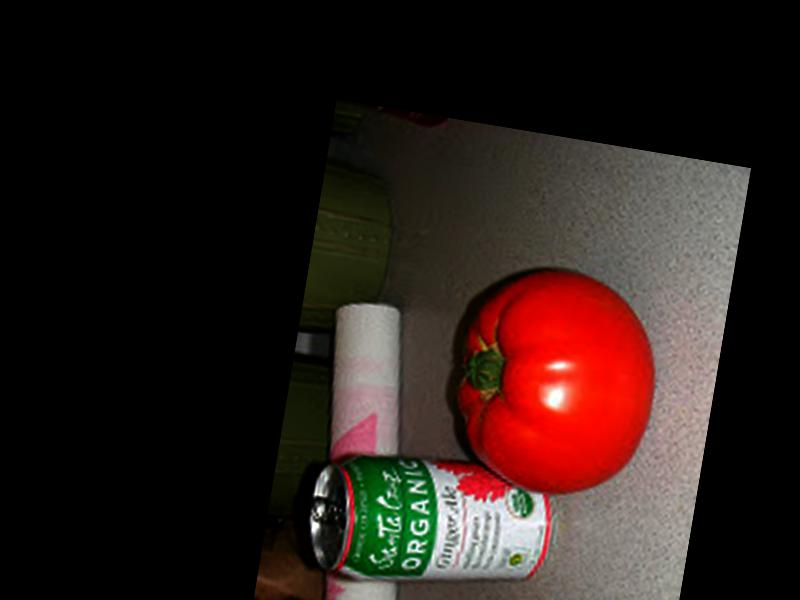Tomato: (445, 259, 668, 505)
